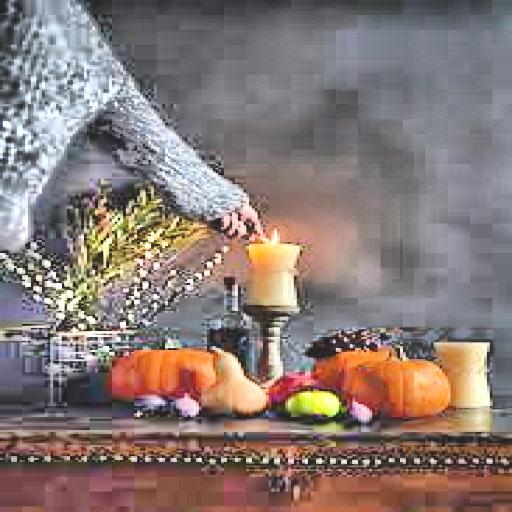fire: (258, 222, 288, 246)
